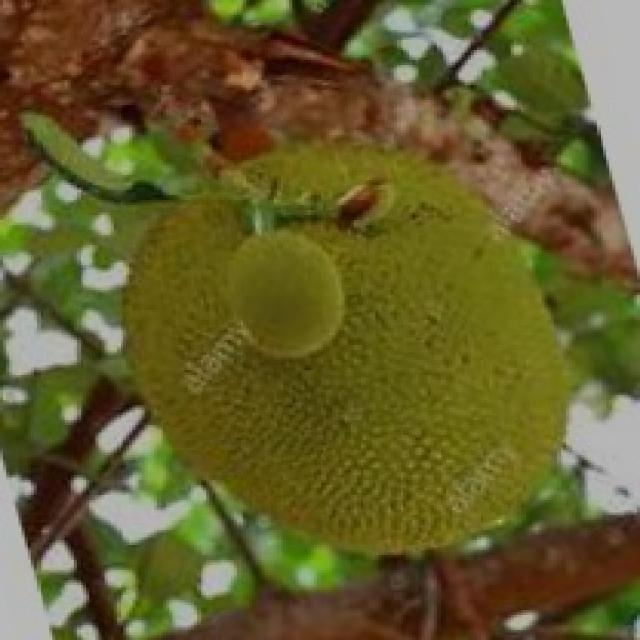Fruit: (218, 210, 600, 582), (86, 170, 385, 538)
